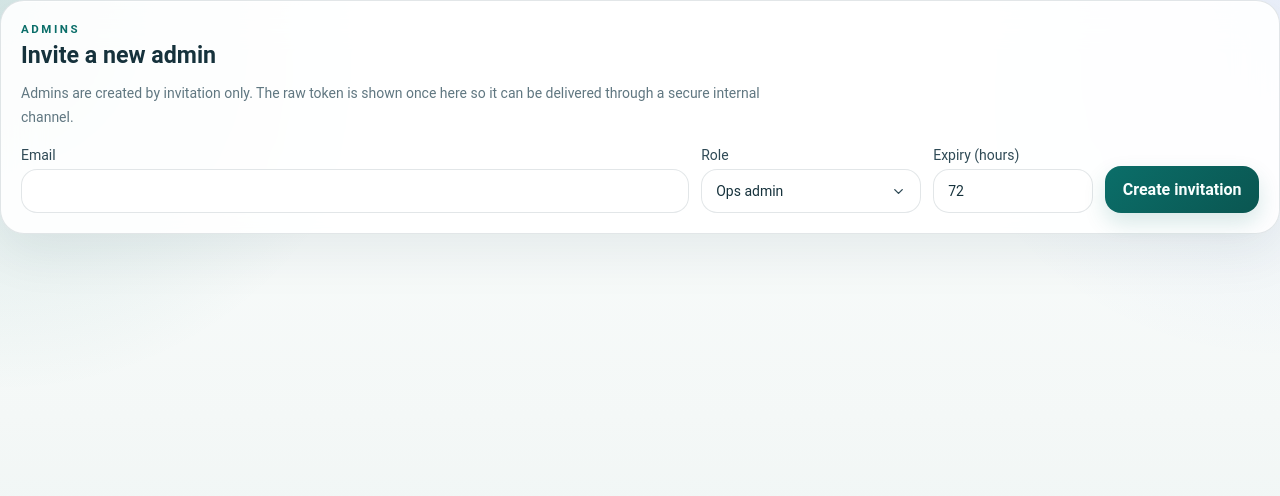
it: AdminInviteForm › creates admin invitations through the backend rpc
The image size is (1280, 496).
Type "ops@fleetfill.dz" into the field labelled "Email" at [355, 191], box [21,169,689,214]
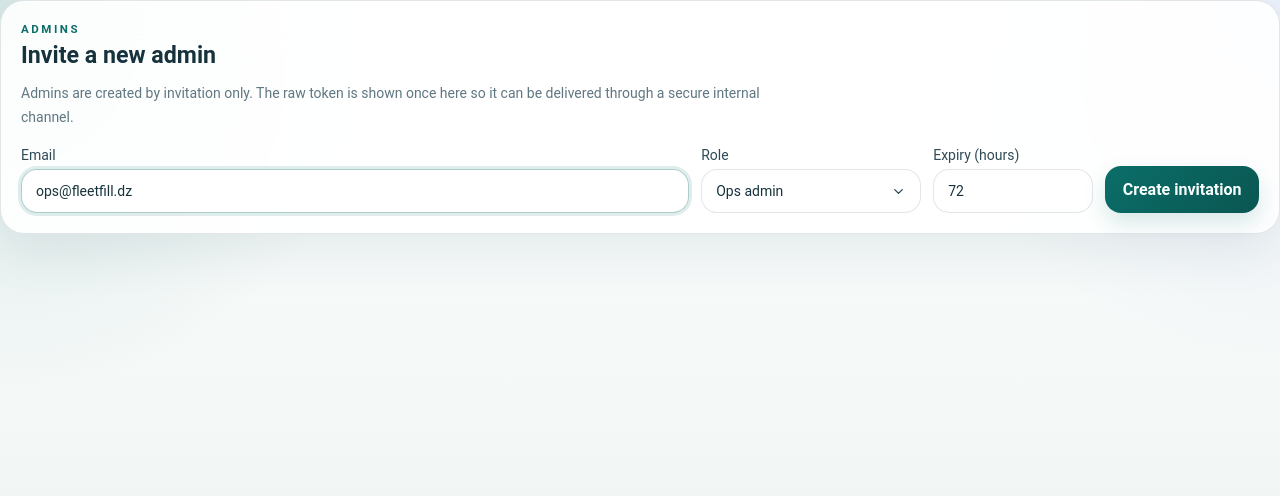
Click the button "Create invitation" at [1182, 190], box [1105,166,1259,213]
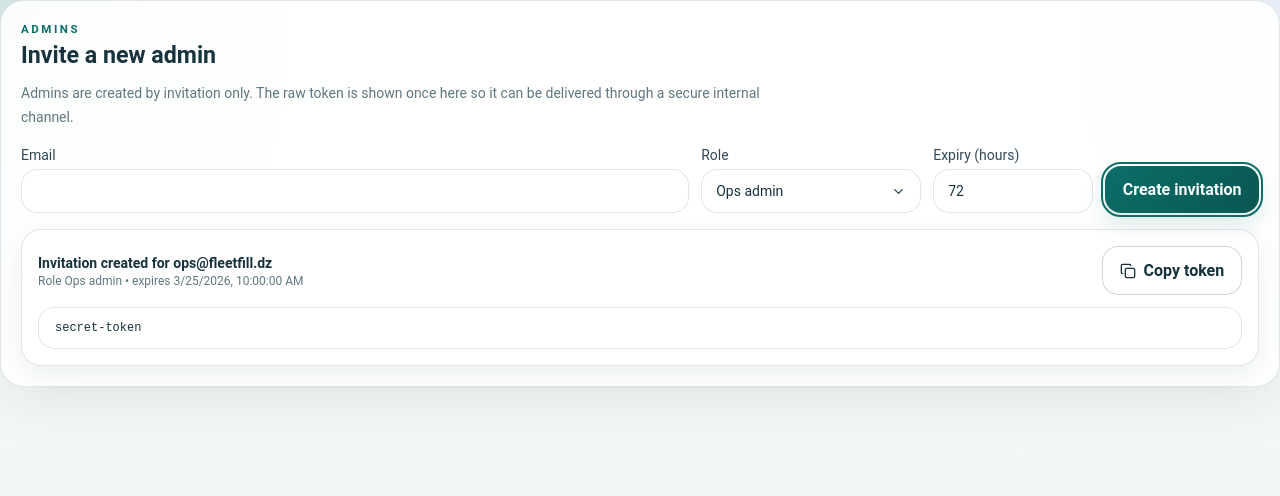
Expected: the text "Invitation created for ops@fleetfill.dz" is shown, [38,253,304,273]
